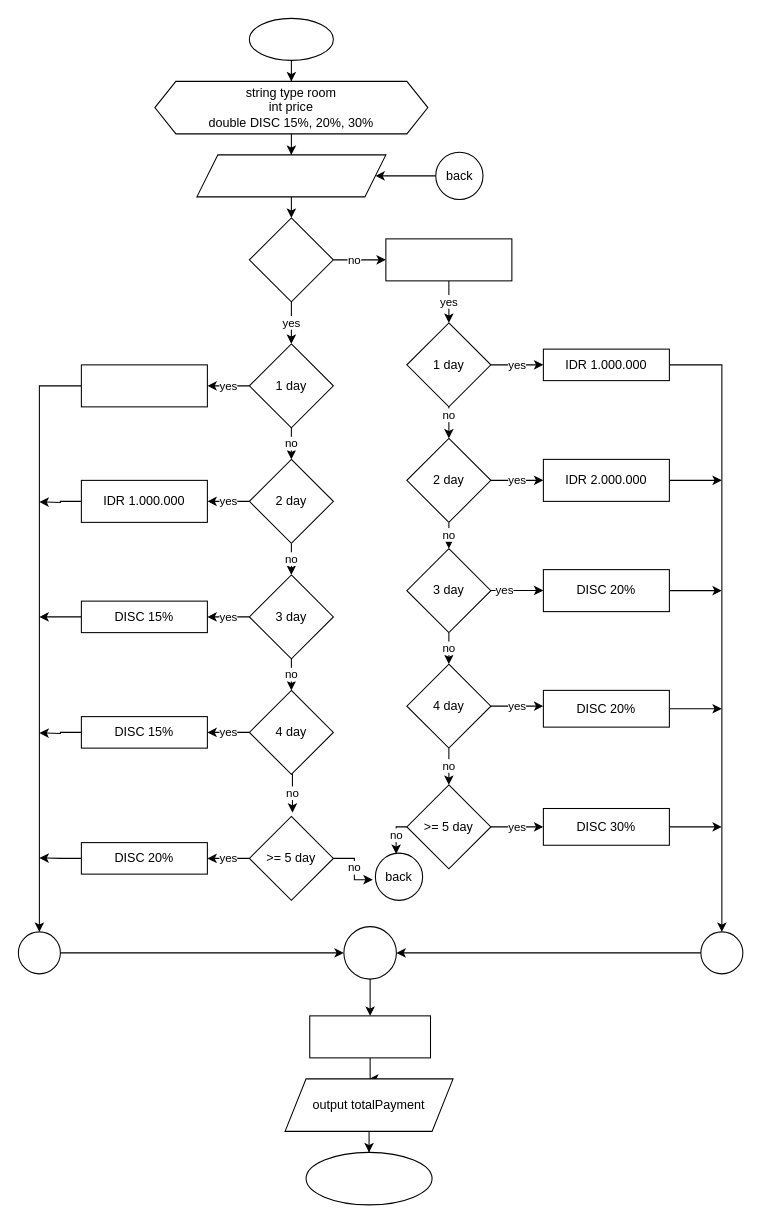
Some shapes in this 761 by 1223 pixel diagram are drawn without their labels. Each missing label, with the box of its shape:
deluxe: (248, 217, 333, 302)
end: (305, 1151, 432, 1205)
executive: (385, 238, 512, 281)
IDR 500.000: (80, 364, 207, 407)
input type room: (196, 154, 386, 197)
payment: (309, 1015, 430, 1058)
start: (248, 17, 333, 60)
